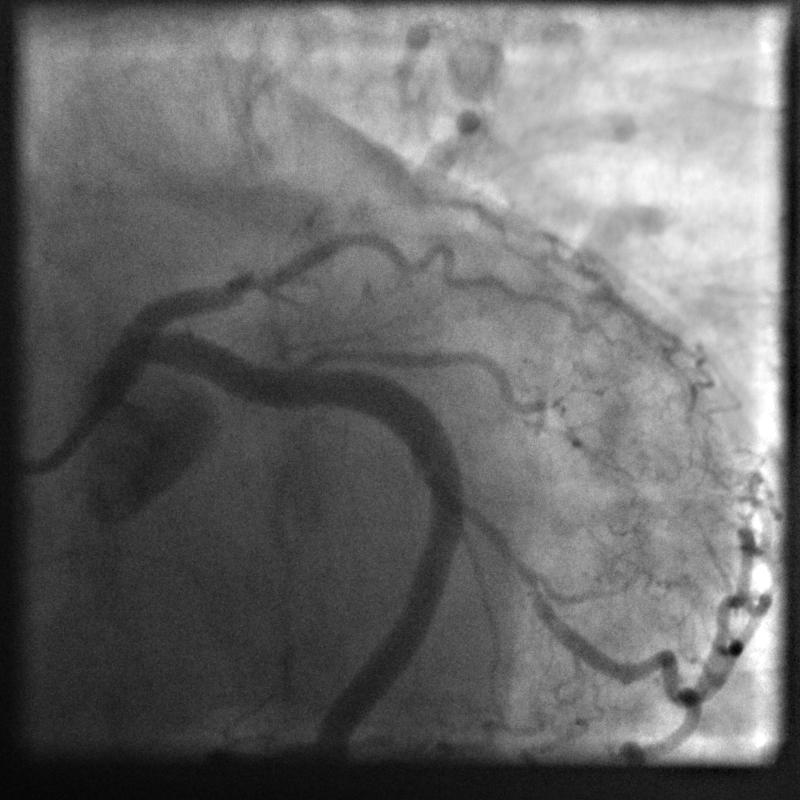Stenosis: (456, 487, 547, 607)
